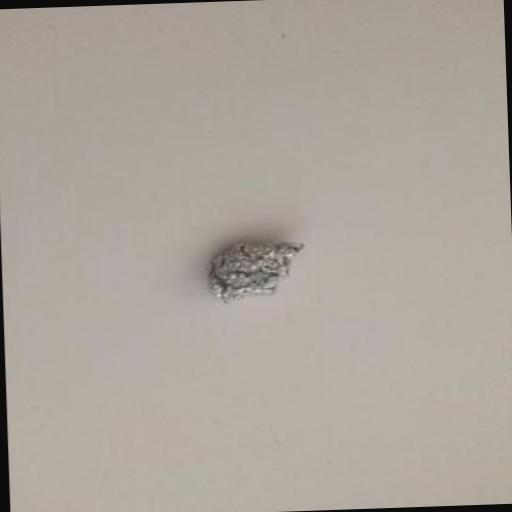metal: (202, 238, 304, 306)
